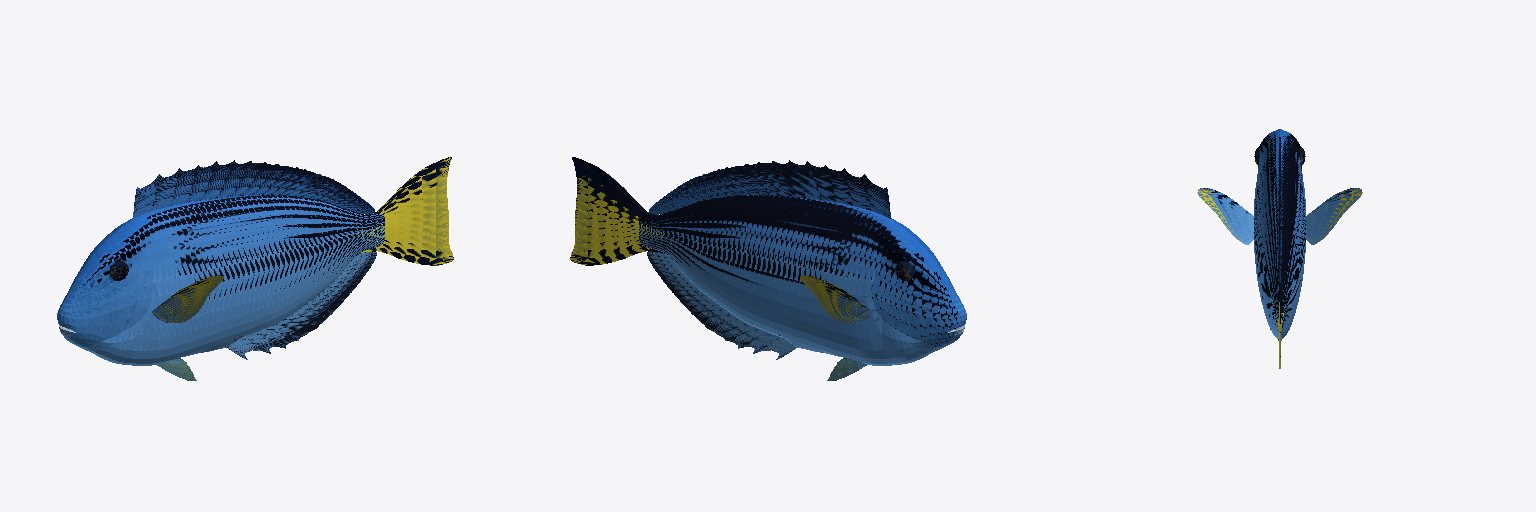
3 renders of one model, left to right at view 1: azimuth 30°, elevation 25°; view 2: azimuth 150°, elevation 25°; view 3: azimuth 270°, elevation 25°, orthographic.
Parts seen in each view (by area): view 1: object, object2, object8, object7, object4; view 2: object, object2, object8, object7, object3; view 3: object, object4, object3.
Boxes of the visible parts, x1,y1,x2,y2 form: object: [57, 194, 384, 365]; object2: [133, 160, 375, 218]; object8: [361, 157, 453, 265]; object7: [227, 251, 376, 359]; object4: [152, 275, 223, 322]; object: [639, 194, 966, 365]; object2: [648, 160, 890, 218]; object8: [570, 157, 662, 265]; object7: [647, 251, 796, 359]; object3: [800, 275, 871, 322]; object: [1254, 129, 1305, 338]; object4: [1197, 188, 1253, 244]; object3: [1306, 188, 1362, 244].
Bounding box in the file's own units: 0.4001 × 0.2057 × 0.1447.
Materials: 1 (1 with a texture image).